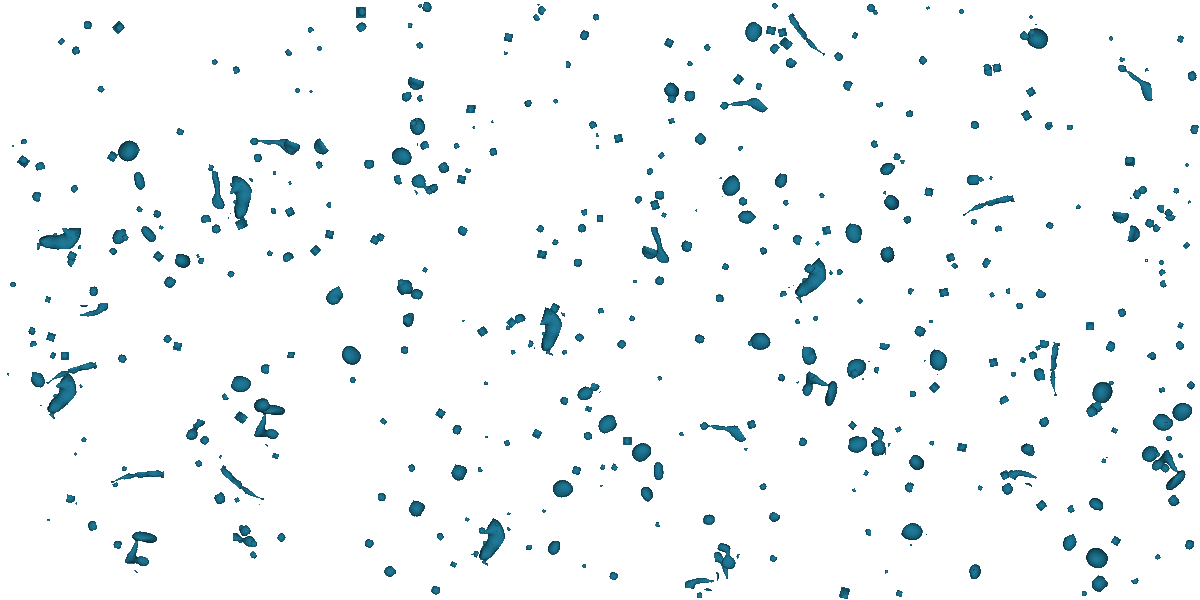Detached ligament: (111, 519, 169, 577), (792, 359, 850, 417), (240, 392, 297, 450), (718, 82, 769, 133), (248, 121, 298, 172), (698, 407, 747, 458), (1146, 445, 1194, 496), (786, 257, 834, 304), (38, 372, 84, 420), (469, 517, 512, 567), (218, 464, 265, 506), (786, 12, 826, 60), (532, 307, 566, 356), (1117, 62, 1153, 104), (44, 360, 98, 385), (226, 175, 254, 223), (961, 193, 1015, 217), (204, 170, 233, 211), (861, 425, 895, 459), (36, 227, 82, 251), (408, 168, 440, 200), (711, 541, 742, 573), (649, 226, 672, 264), (110, 469, 165, 484), (1005, 464, 1038, 488), (1048, 342, 1061, 396), (184, 416, 206, 444), (683, 575, 715, 592), (713, 550, 730, 581), (79, 302, 110, 318), (232, 532, 257, 548)
drop: (1167, 397, 1197, 427), (922, 346, 952, 376), (898, 518, 928, 548), (548, 474, 577, 504), (627, 438, 656, 467), (114, 137, 143, 165), (746, 327, 774, 356), (1149, 410, 1177, 438), (738, 18, 766, 46), (338, 342, 365, 369), (228, 373, 255, 398), (593, 411, 619, 436), (389, 144, 414, 169), (405, 114, 430, 139), (322, 285, 347, 310), (845, 356, 870, 381), (733, 206, 757, 230), (880, 192, 904, 216), (905, 452, 929, 476), (660, 80, 684, 104), (718, 174, 742, 198), (1026, 26, 1049, 51), (1090, 381, 1115, 404), (138, 222, 161, 247), (841, 222, 864, 246), (1087, 573, 1110, 596), (1086, 546, 1108, 570), (1059, 533, 1081, 556), (249, 394, 272, 416), (405, 498, 427, 521), (636, 482, 658, 504), (847, 435, 870, 456), (448, 462, 469, 485), (574, 384, 595, 406), (876, 158, 897, 180), (1016, 441, 1038, 461), (877, 245, 897, 267), (310, 137, 330, 159), (173, 252, 194, 272), (800, 346, 820, 367), (1140, 444, 1160, 464), (29, 371, 50, 390), (110, 228, 129, 249), (966, 561, 985, 581), (132, 170, 148, 193), (405, 76, 426, 93), (639, 245, 660, 262), (281, 139, 302, 156), (394, 279, 414, 296), (652, 461, 666, 483), (545, 539, 562, 557), (1087, 495, 1105, 512), (402, 311, 418, 330), (1127, 224, 1142, 244), (161, 274, 178, 291), (381, 563, 398, 580), (999, 481, 1016, 498), (692, 131, 709, 148), (1036, 415, 1053, 432), (800, 261, 817, 278), (236, 522, 253, 539), (1165, 493, 1182, 510), (435, 160, 452, 177), (1084, 402, 1100, 419), (871, 438, 886, 456), (1111, 211, 1130, 225), (1088, 400, 1104, 416), (212, 491, 228, 507), (678, 239, 694, 255), (420, 0, 436, 16), (1104, 339, 1120, 355), (409, 286, 425, 302), (912, 324, 928, 340), (1017, 30, 1033, 45), (1033, 288, 1049, 303), (773, 173, 788, 189), (977, 255, 992, 271), (783, 56, 799, 71), (778, 36, 794, 51), (233, 410, 249, 425), (62, 254, 77, 269), (767, 510, 782, 525), (354, 19, 369, 34), (280, 249, 295, 264), (766, 41, 781, 56), (111, 20, 126, 35), (16, 154, 31, 169), (1032, 367, 1046, 382), (995, 392, 1010, 406), (1163, 212, 1178, 226), (512, 311, 527, 325), (399, 91, 414, 105), (1129, 188, 1143, 203), (533, 4, 547, 19), (429, 584, 444, 598), (1143, 217, 1158, 231), (234, 217, 249, 231), (840, 78, 854, 92), (455, 224, 469, 238), (67, 181, 81, 195), (631, 192, 645, 206), (968, 118, 982, 132), (251, 151, 265, 165), (1185, 69, 1199, 83), (653, 275, 668, 288), (966, 174, 980, 187), (902, 480, 915, 494), (390, 174, 403, 188), (416, 139, 430, 152), (702, 513, 716, 526), (838, 586, 851, 600), (578, 28, 591, 42), (790, 233, 803, 246), (683, 90, 696, 103), (615, 338, 628, 351), (198, 434, 211, 447), (832, 50, 845, 63), (363, 159, 376, 172), (161, 333, 174, 346), (1042, 120, 1055, 133), (33, 159, 46, 172), (1187, 123, 1200, 136), (275, 531, 288, 544), (573, 331, 586, 344), (1185, 379, 1198, 392), (1162, 207, 1175, 220), (916, 54, 929, 67), (1159, 462, 1172, 475), (116, 352, 129, 365), (107, 244, 120, 257), (1149, 222, 1162, 235), (736, 195, 749, 208), (1136, 184, 1149, 197), (152, 250, 165, 263), (732, 73, 745, 86), (309, 244, 322, 257), (106, 150, 119, 163), (928, 381, 941, 394), (476, 325, 489, 338), (1173, 339, 1186, 352), (505, 316, 518, 329), (1020, 109, 1033, 122), (1035, 499, 1048, 512), (434, 407, 447, 420), (1183, 538, 1196, 551), (878, 342, 892, 354), (589, 382, 603, 394), (363, 538, 377, 550), (210, 223, 222, 237), (30, 190, 42, 203), (86, 519, 98, 532), (1116, 306, 1128, 319), (607, 570, 620, 582), (797, 436, 809, 449), (451, 423, 463, 436), (693, 333, 706, 345), (65, 494, 79, 505), (582, 430, 594, 442), (865, 2, 877, 14), (236, 523, 248, 535), (535, 223, 547, 235), (767, 553, 779, 565), (902, 214, 914, 226), (374, 231, 386, 243), (1027, 349, 1039, 361), (558, 395, 570, 407), (666, 93, 678, 105), (27, 325, 39, 337), (523, 98, 535, 110), (758, 244, 770, 256), (587, 118, 599, 130), (549, 302, 561, 314), (45, 331, 57, 343), (1110, 535, 1122, 547), (1025, 86, 1037, 98), (66, 250, 78, 262), (369, 234, 381, 246), (999, 469, 1011, 481), (757, 482, 769, 494), (531, 428, 543, 440), (848, 368, 860, 380), (649, 199, 661, 211), (663, 37, 675, 49), (284, 206, 296, 218), (982, 65, 993, 77), (259, 363, 270, 375), (653, 190, 665, 201), (435, 530, 446, 542), (174, 127, 186, 138), (536, 249, 548, 260), (956, 442, 968, 453), (1124, 156, 1136, 167), (765, 25, 777, 36), (938, 287, 950, 298), (88, 285, 99, 297), (1155, 204, 1165, 217), (734, 142, 745, 153), (1174, 451, 1185, 462), (414, 40, 425, 51), (531, 13, 542, 24), (283, 48, 294, 59), (231, 64, 242, 75), (314, 159, 325, 170), (1065, 504, 1076, 515), (152, 209, 163, 220), (644, 166, 655, 177), (248, 550, 259, 561), (904, 286, 915, 297), (70, 45, 81, 56), (488, 146, 499, 157), (777, 372, 788, 383), (982, 61, 993, 72), (988, 357, 999, 368), (847, 420, 858, 431), (613, 133, 624, 144), (571, 465, 582, 476), (945, 252, 956, 263), (834, 266, 845, 277), (209, 56, 220, 67), (95, 84, 106, 95), (769, 0, 780, 11), (950, 261, 961, 272), (821, 225, 832, 236), (172, 341, 183, 352), (746, 419, 757, 430), (324, 229, 335, 240), (503, 32, 514, 43), (806, 371, 816, 382), (474, 465, 484, 476), (120, 232, 130, 243), (702, 42, 712, 53), (400, 345, 410, 356), (1039, 340, 1050, 350), (200, 213, 211, 223), (220, 392, 230, 403), (424, 186, 435, 196), (407, 462, 417, 473), (1044, 220, 1055, 230), (869, 139, 879, 150), (1158, 279, 1168, 290), (1156, 267, 1167, 277), (470, 549, 480, 560), (580, 207, 591, 217), (610, 461, 620, 472), (892, 152, 902, 163), (83, 20, 93, 31), (377, 492, 387, 503), (572, 258, 583, 268), (356, 7, 366, 18), (622, 436, 633, 446), (134, 204, 144, 215), (684, 59, 695, 69), (450, 141, 461, 151), (304, 25, 315, 35), (264, 249, 275, 259), (577, 223, 587, 233), (226, 269, 236, 279), (715, 293, 725, 303), (924, 187, 934, 197), (992, 63, 1002, 73), (60, 351, 70, 361), (466, 104, 476, 114), (771, 222, 781, 232), (969, 217, 979, 227), (348, 375, 358, 385), (502, 439, 512, 449), (1014, 302, 1024, 312), (194, 459, 204, 469), (721, 262, 731, 272), (627, 314, 637, 324), (1085, 321, 1095, 331), (777, 289, 788, 298), (27, 339, 38, 348), (1130, 577, 1141, 586), (754, 81, 763, 92), (871, 365, 880, 376), (652, 520, 661, 530), (993, 224, 1003, 233), (415, 94, 424, 104), (196, 256, 205, 266), (1153, 552, 1163, 561), (1172, 187, 1182, 196), (781, 198, 790, 208), (269, 207, 278, 217), (976, 175, 985, 184), (745, 339, 754, 348), (1074, 203, 1083, 212), (862, 469, 871, 478), (111, 481, 120, 490), (113, 540, 122, 549), (657, 151, 666, 160), (379, 417, 388, 426), (894, 425, 903, 434), (57, 37, 66, 46), (1149, 351, 1158, 360), (778, 28, 787, 37), (449, 560, 458, 569), (1110, 426, 1119, 435), (1176, 321, 1185, 330), (1182, 241, 1191, 250), (551, 238, 560, 247), (408, 118, 417, 127), (560, 348, 569, 357), (817, 191, 826, 200), (457, 175, 466, 184), (864, 528, 872, 538), (875, 101, 885, 109), (527, 339, 535, 349), (18, 137, 28, 145), (904, 110, 914, 118), (1117, 56, 1126, 64), (793, 317, 801, 326), (397, 278, 405, 287), (478, 526, 486, 535), (463, 167, 472, 175), (596, 214, 604, 223), (584, 405, 593, 413), (271, 452, 280, 460), (49, 351, 57, 360), (851, 31, 859, 40), (694, 591, 703, 599), (250, 540, 259, 548), (909, 390, 918, 398), (1107, 379, 1115, 387), (592, 13, 600, 21), (421, 266, 429, 274), (656, 374, 664, 382), (552, 97, 560, 105), (287, 351, 295, 359), (1158, 386, 1166, 394), (207, 164, 215, 172), (856, 297, 864, 305), (1019, 356, 1027, 364), (481, 380, 489, 388), (416, 3, 424, 11), (1100, 457, 1108, 465), (80, 436, 88, 444), (814, 240, 822, 248), (871, 8, 879, 16), (988, 291, 996, 299), (504, 324, 512, 332), (976, 484, 984, 492), (1145, 352, 1153, 360), (1107, 34, 1115, 42), (9, 280, 17, 288), (1165, 435, 1173, 443), (1027, 13, 1035, 21), (565, 60, 572, 69), (896, 588, 903, 597), (324, 201, 331, 209), (1177, 35, 1184, 43), (1004, 287, 1011, 295), (407, 22, 414, 30), (1066, 124, 1074, 131), (525, 544, 533, 551), (1046, 121, 1053, 129), (596, 307, 604, 314), (121, 465, 128, 473), (928, 440, 935, 447), (135, 147, 142, 154), (1183, 162, 1190, 169), (541, 508, 548, 515), (812, 315, 819, 322), (958, 8, 965, 15), (1154, 451, 1161, 458), (1163, 420, 1170, 427), (1158, 259, 1165, 266), (1081, 590, 1088, 597), (1010, 371, 1017, 378), (899, 159, 906, 166), (294, 87, 301, 94), (316, 45, 323, 52), (483, 434, 490, 441), (1143, 257, 1150, 264), (882, 569, 889, 575), (1029, 29, 1035, 36), (217, 453, 223, 460), (668, 118, 675, 124), (45, 296, 51, 303), (600, 464, 606, 471), (1186, 199, 1192, 205), (1035, 345, 1041, 351), (234, 497, 240, 503), (510, 349, 516, 355), (988, 175, 994, 181), (287, 180, 293, 186), (195, 253, 201, 259), (925, 5, 931, 11), (661, 212, 667, 218), (158, 225, 164, 231), (464, 517, 470, 523), (506, 511, 512, 517), (489, 119, 495, 125), (308, 89, 314, 95), (72, 451, 78, 457), (723, 265, 729, 271), (460, 318, 466, 324), (535, 2, 541, 8), (598, 483, 604, 489), (693, 207, 699, 213), (678, 431, 684, 437), (581, 563, 587, 569), (503, 51, 510, 56), (471, 124, 476, 131), (882, 189, 887, 196), (743, 447, 749, 452), (1104, 455, 1110, 460), (632, 279, 638, 284), (229, 182, 235, 187), (272, 170, 277, 176), (928, 319, 934, 324), (971, 567, 976, 573), (5, 371, 10, 377), (1033, 22, 1038, 27), (881, 169, 886, 174), (46, 517, 51, 522), (1143, 68, 1149, 72), (595, 132, 599, 138), (595, 145, 599, 150), (11, 144, 16, 148), (852, 488, 856, 493)
